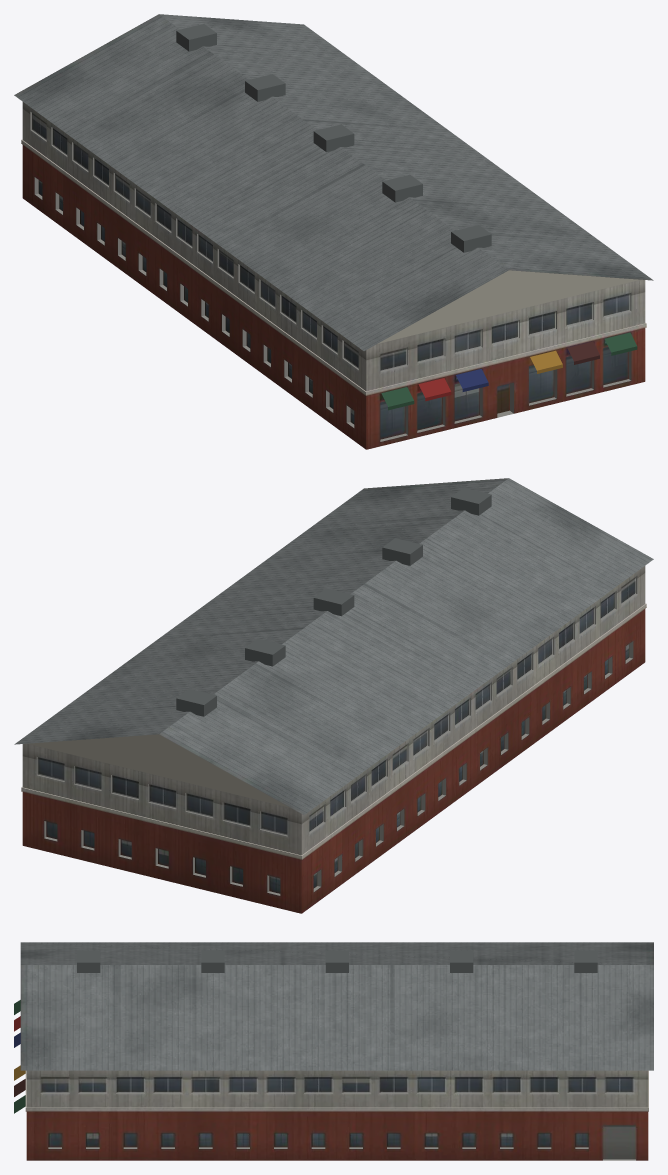
File: seattle_warehouse_a.glb
3 views of the same model, one above another, from view 1: azimuth 30°, elevation 25°; view 2: azimuth 150°, elevation 25°; view 3: azimuth 270°, elevation 25° (orthographic). The views are drawn at different scales.
Parts seen in each view (by area): view 1: seattle_warehouse_a; view 2: seattle_warehouse_a; view 3: seattle_warehouse_a.
Part boxes in pixels (box(x1,y1,x2,y2)): seattle_warehouse_a: box(14, 14, 653, 449); seattle_warehouse_a: box(14, 478, 653, 913); seattle_warehouse_a: box(14, 942, 653, 1160).
Bounding box in the file's own units: 31.2 × 16.2 × 65.9.
Materials: 1 (1 with a texture image).
